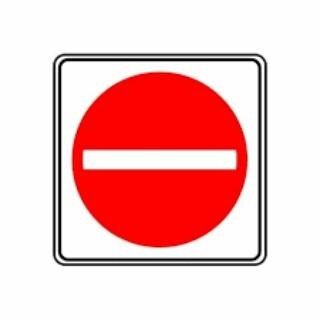sign_noentry: (67, 71, 241, 250)
